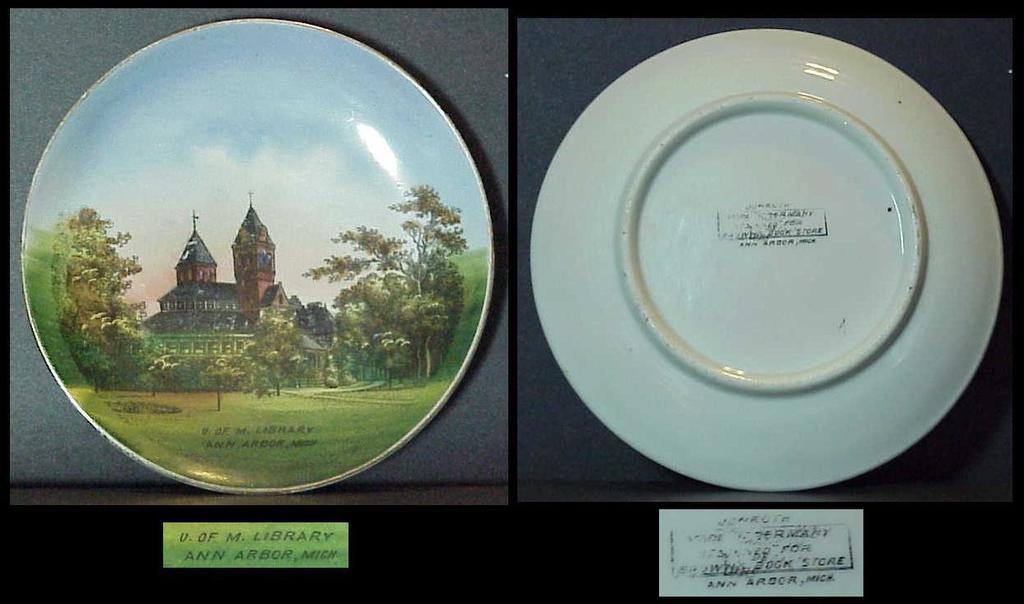plate: (22, 18, 495, 496), (514, 45, 988, 478)
